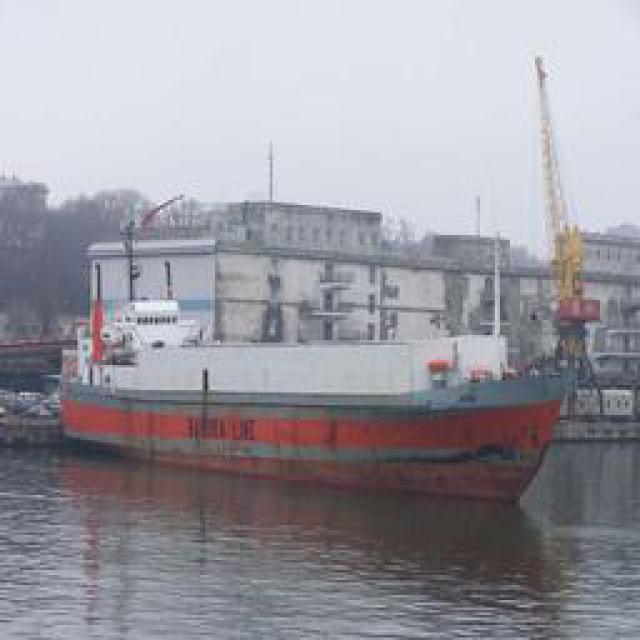Ship: (66, 212, 569, 495)
